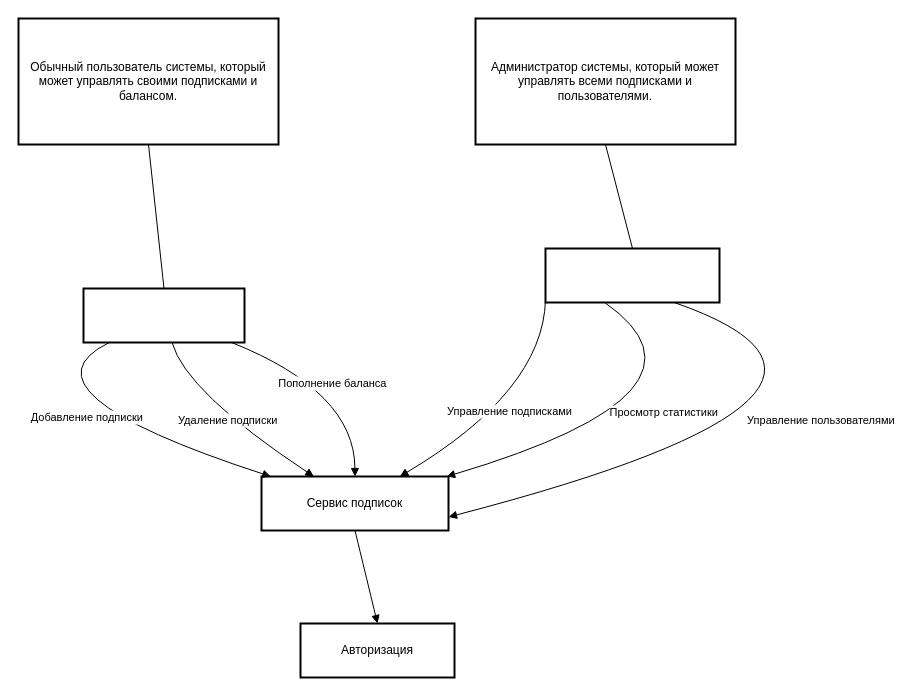
Image size: 913x695. Some labels were removed from this diagram. Here are the shapes that lost their labels. From the top down, the centre of each, then its label:
At point 632,275: "Администратор".
At point 163,315: "Пользователь".
